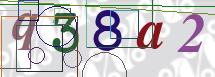2: (174, 12, 207, 54)
3: (49, 10, 82, 54)
8: (91, 8, 127, 52)
a: (132, 18, 167, 52)
q: (10, 10, 41, 54)
